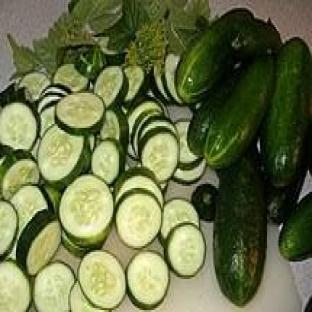Cucumber: (176, 8, 280, 104), (214, 156, 267, 306), (205, 57, 274, 168), (260, 39, 311, 186), (188, 68, 240, 156), (59, 175, 113, 248), (38, 125, 89, 187), (77, 250, 126, 310), (16, 210, 60, 275), (115, 188, 162, 248), (127, 250, 169, 310), (266, 165, 307, 224), (164, 223, 206, 277), (138, 126, 178, 182), (11, 185, 52, 238), (279, 194, 311, 261), (56, 92, 105, 135), (34, 262, 75, 311), (115, 167, 163, 207), (0, 152, 40, 199), (0, 103, 39, 151), (160, 198, 198, 242), (131, 109, 165, 156), (0, 260, 31, 311), (95, 66, 129, 108), (92, 140, 124, 184), (101, 105, 129, 149), (175, 119, 200, 168), (70, 281, 107, 311), (0, 200, 18, 261), (75, 45, 105, 81), (53, 64, 88, 93), (124, 66, 148, 108), (192, 183, 217, 220), (164, 53, 182, 104), (18, 72, 50, 100), (173, 159, 206, 186), (61, 231, 92, 257), (0, 84, 27, 106), (37, 94, 65, 114), (40, 105, 55, 137), (41, 84, 71, 98)
